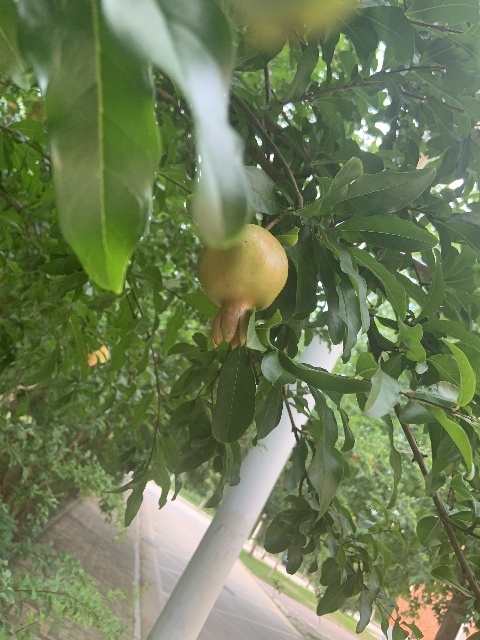mid-growth: (196, 224, 288, 350)
